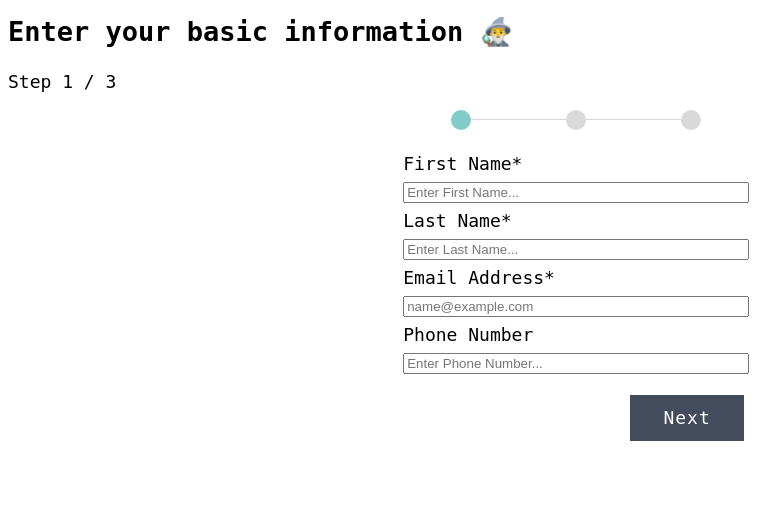
it: should process step two
In the field with test id "fname": (576, 192) left=403, top=182, right=749, bottom=203, type "yueer"
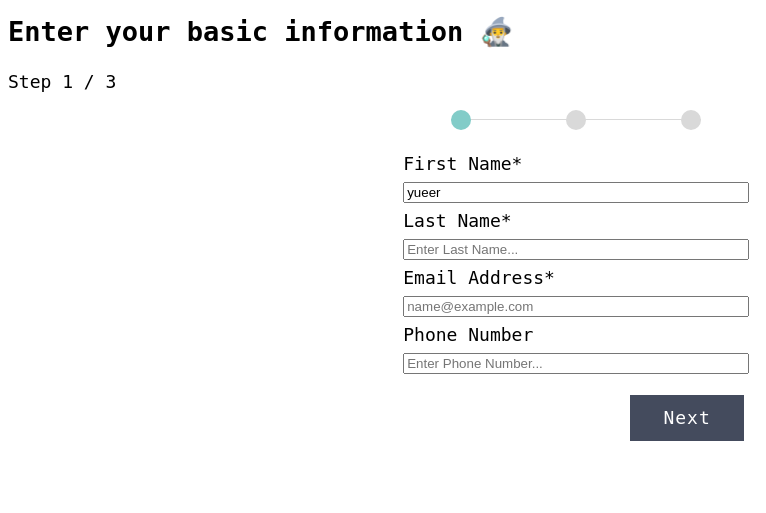
In the field with test id "lname": (576, 249) left=403, top=239, right=749, bottom=260, type "chen"
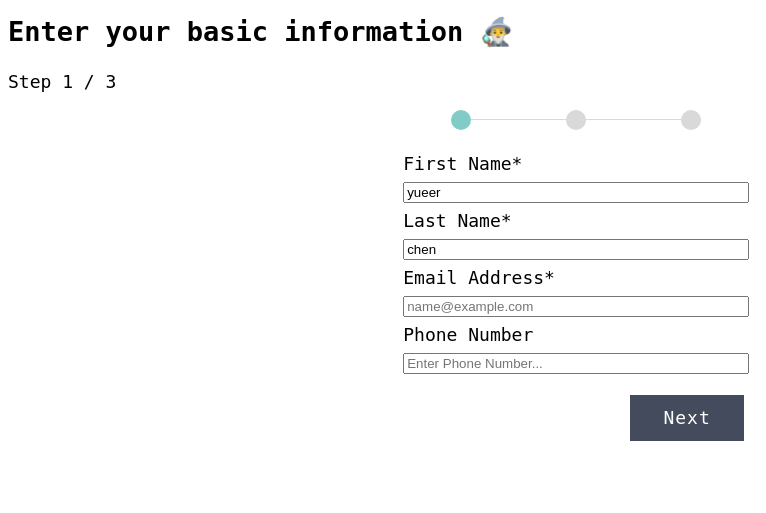
In the field with test id "email": (576, 306) left=403, top=296, right=749, bottom=317, type "yueer.chen0318@gmail.com"
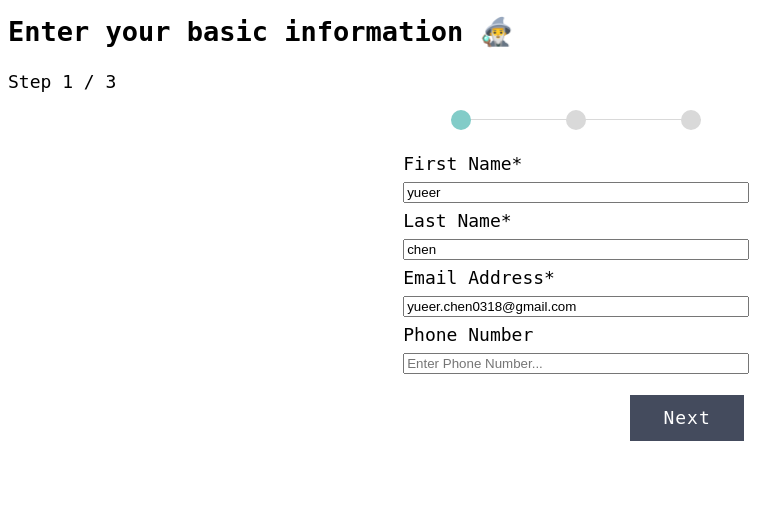
In the field with test id "phone": (576, 363) left=403, top=353, right=749, bottom=374, type "0468377625"
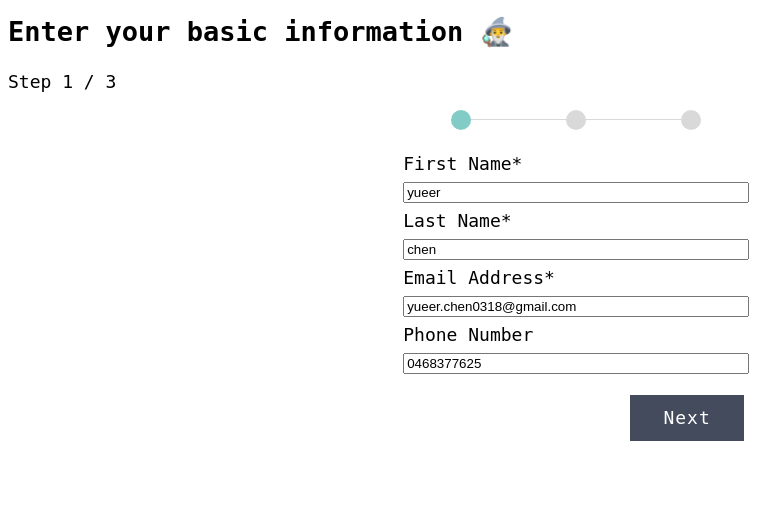
Click the button with test id "continue-first": click(687, 418) left=630, top=395, right=744, bottom=441
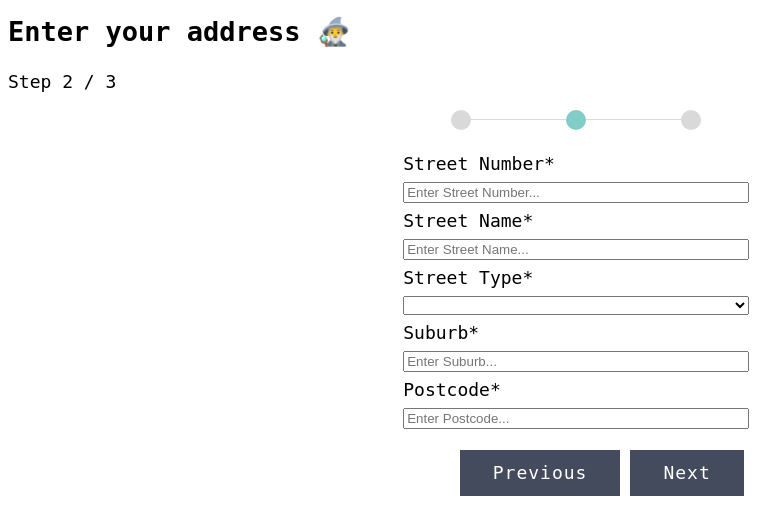
Expected: the element with test id "step-two" is shown, left=8, top=71, right=701, bottom=130
Expected: the element with test id "step-two" shows "2", left=62, top=71, right=73, bottom=92
